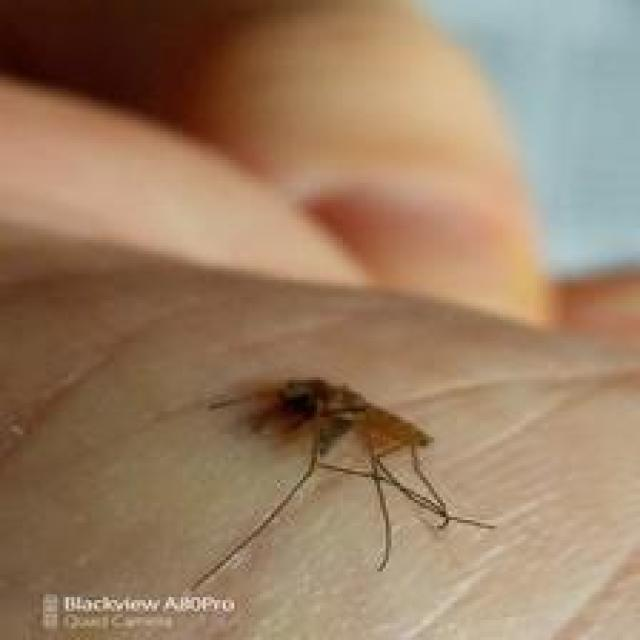Culex: (183, 374, 497, 594)
